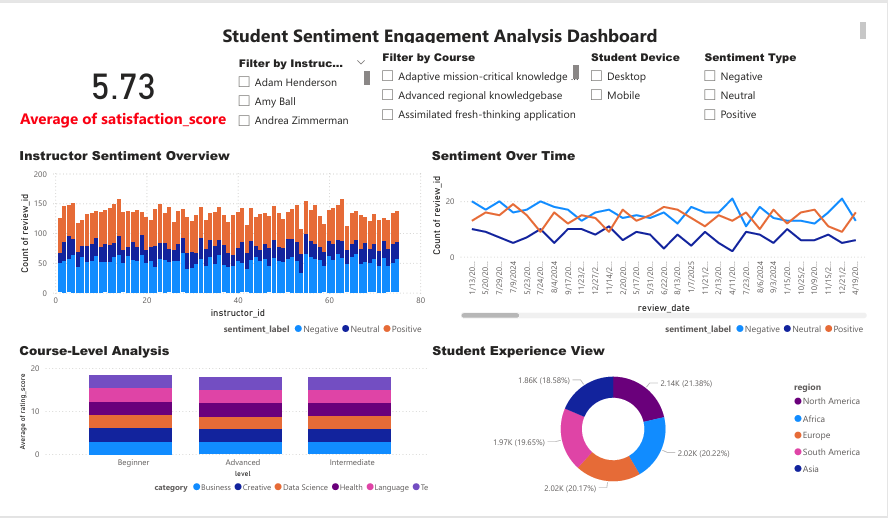

What the dashboard file says about the page in this screenshot:
{"tool":"powerbi","page":{"name":"Executive Overview","canvas":[1280,720],"ordinal":4},"visuals":[{"type":"slicer","fields":{"Values":["Data 1 Instructors.full_name"]},"box":[321,49,215,120],"z":0},{"type":"card","fields":{"Values":["Data 3 Students.satisfaction_score"]},"box":[0,49,321,120],"z":1000},{"type":"slicer","fields":{"Values":["Data 2 Coursrs.title"]},"box":[536,40,313,129],"z":2000},{"type":"slicer","fields":{"Values":["Sentiment_Analysis_Results_Full.sentiment_label"]},"box":[1019,40,193,129],"z":3000},{"type":"columnChart","title":"Instructor Sentiment Overview","fields":{"Category":["Sentiment_Analysis_Results_Full.instructor_id"],"Series":["Sentiment_Analysis_Results_Full.sentiment_label"],"Y":["Sentiment_Analysis_Results_Full.review_id"]},"box":[0,191.3,618,291.8],"z":4000},{"type":"lineChart","title":"Sentiment Over Time","fields":{"Category":["Sentiment_Analysis_Results_Full.review_date"],"Y":["Sentiment_Analysis_Results_Full.review_id"],"Series":["Sentiment_Analysis_Results_Full.sentiment_label"]},"box":[618,191.3,662,291.8],"z":5000},{"type":"columnChart","title":"Course-Level Analysis ","fields":{"Category":["Data 2 Coursrs.level"],"Y":["Sentiment_Analysis_Results_Full.rating_score"],"Series":["Data 2 Coursrs.category"]},"box":[0,483.1,640,236.7],"z":6000},{"type":"slicer","fields":{"Values":["Data 3 Students.device_type"]},"box":[849,40,170,129],"z":7000},{"type":"textbox","box":[0,0,1279,40],"z":8000},{"type":"donutChart","title":"Student Experience View","fields":{"Y":["Sentiment_Analysis_Results_Full.student_id"],"Category":["Data 3 Students.region"]},"box":[619,483,661,237],"z":9000}]}

Visuals, with their boxes on the page's 1280x720 design canvas (x1, y1, x2, y2). These are canvas units, not pixel positions in the 888x518 screenshot, which may show the page scaled, cropped or inside an application window:
slicer - Data 1 Instructors.full_name: <box>321,49,536,169</box>
card - Data 3 Students.satisfaction_score: <box>0,49,321,169</box>
slicer - Data 2 Coursrs.title: <box>536,40,849,169</box>
slicer - Sentiment_Analysis_Results_Full.sentiment_label: <box>1019,40,1212,169</box>
"Instructor Sentiment Overview" columnChart: <box>0,191,618,483</box>
"Sentiment Over Time" lineChart: <box>618,191,1280,483</box>
"Course-Level Analysis " columnChart: <box>0,483,640,720</box>
slicer - Data 3 Students.device_type: <box>849,40,1019,169</box>
textbox: <box>0,0,1279,40</box>
"Student Experience View" donutChart: <box>619,483,1280,720</box>
